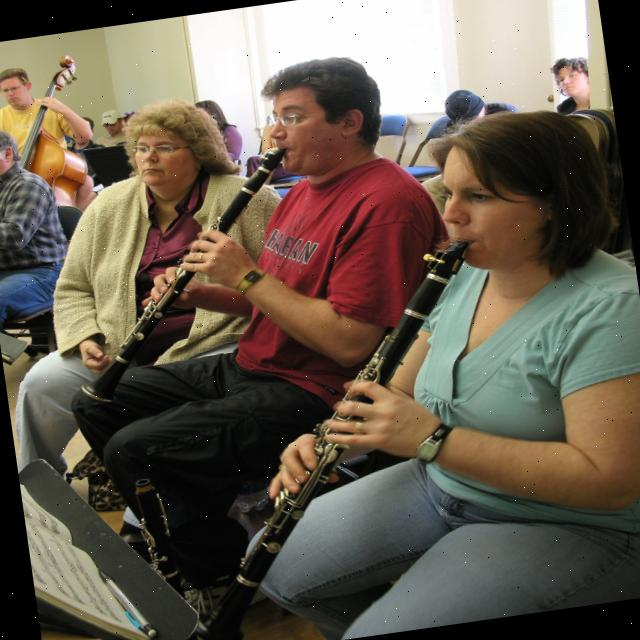cello: (0, 47, 101, 228)
clarinet: (146, 237, 523, 640), (48, 148, 322, 408)
